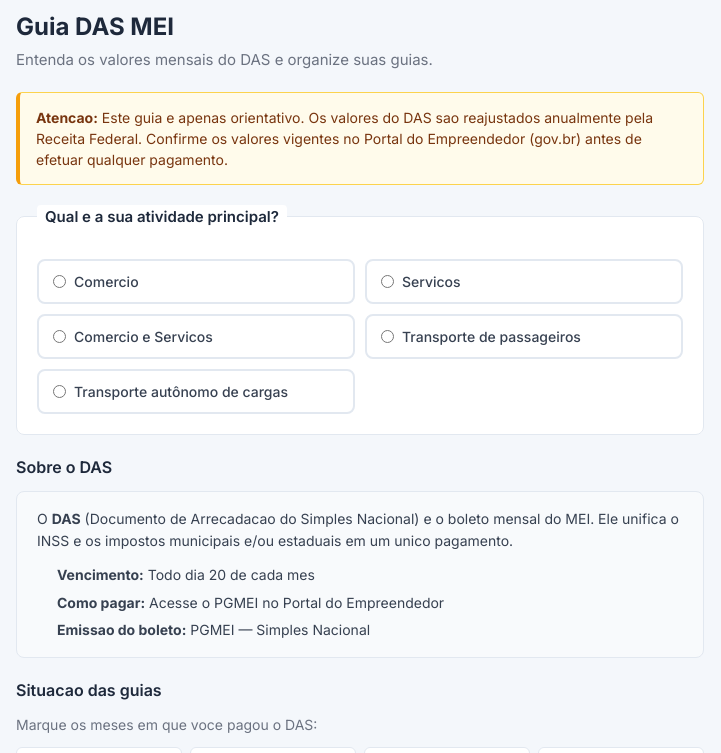
Test: MeiDasGuideTool › selecionar "Servicos" exibe ISS e nao exibe ICMS
Click the radio button labelled "Servicos" at (388, 281), box top-left (381, 275), bottom-right (394, 288)
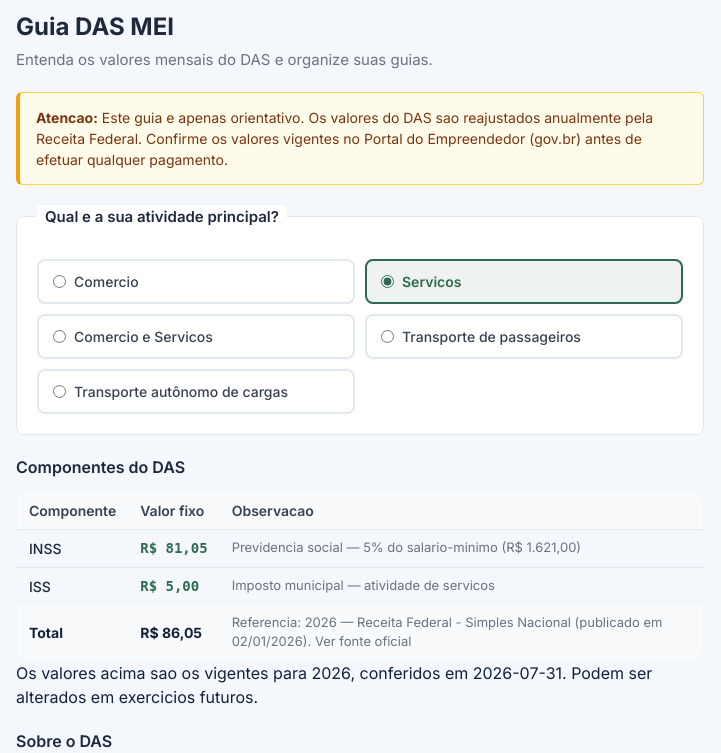
Check: the text "ISS" is shown, box top-left (16, 567), bottom-right (128, 605)
